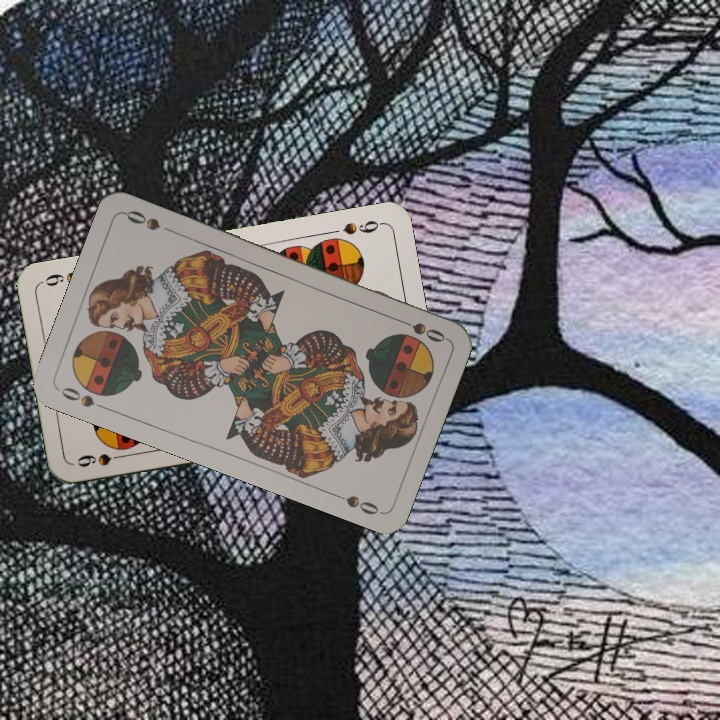S9: (73, 449, 131, 470), (338, 216, 385, 238)
SO: (392, 314, 449, 345), (54, 383, 111, 413)
